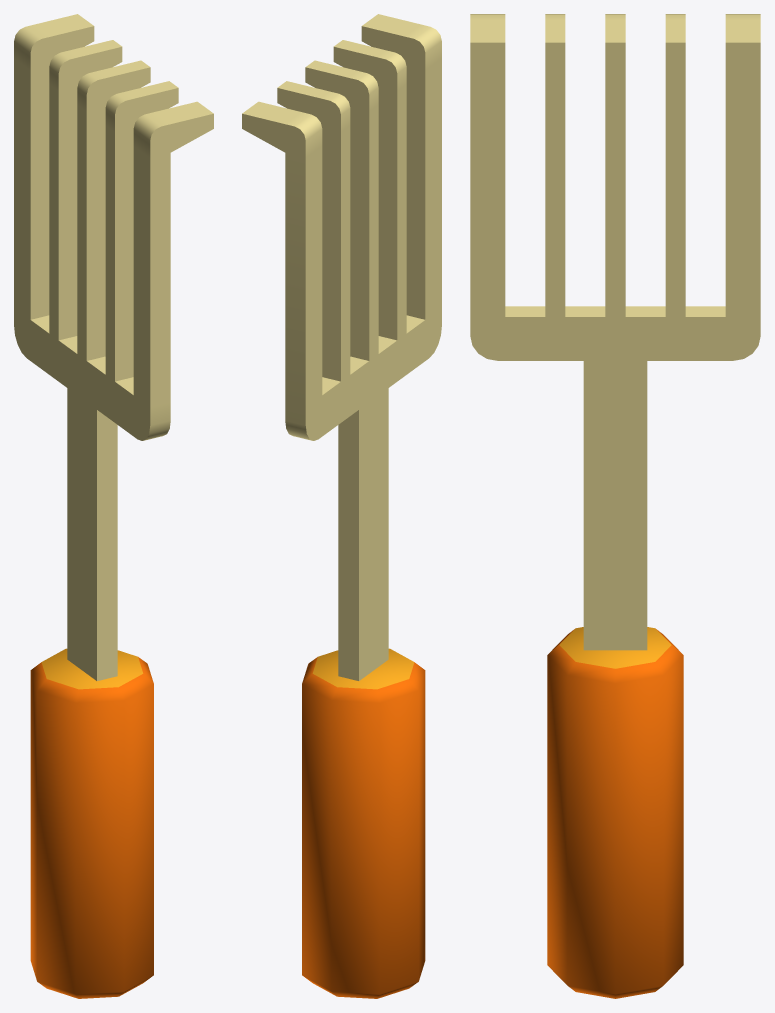
The model's file is Ground_Hammer_06.fbx.
3 renders of one model, left to right at view 1: azimuth 30°, elevation 25°; view 2: azimuth 150°, elevation 25°; view 3: azimuth 270°, elevation 25°, orthographic. The views are drawn at different scales.
Parts seen in each view (by area): view 1: Obstacle_Ground_Hammer_06; view 2: Obstacle_Ground_Hammer_06; view 3: Obstacle_Ground_Hammer_06.
Boxes of the visible parts, x1=… form: Obstacle_Ground_Hammer_06: x1=14, y1=14, x2=213, y2=998; Obstacle_Ground_Hammer_06: x1=242, y1=14, x2=441, y2=998; Obstacle_Ground_Hammer_06: x1=470, y1=14, x2=760, y2=998.
Size of the model in its own units: 50 by 389 by 107.
1 material, 1 textured.
